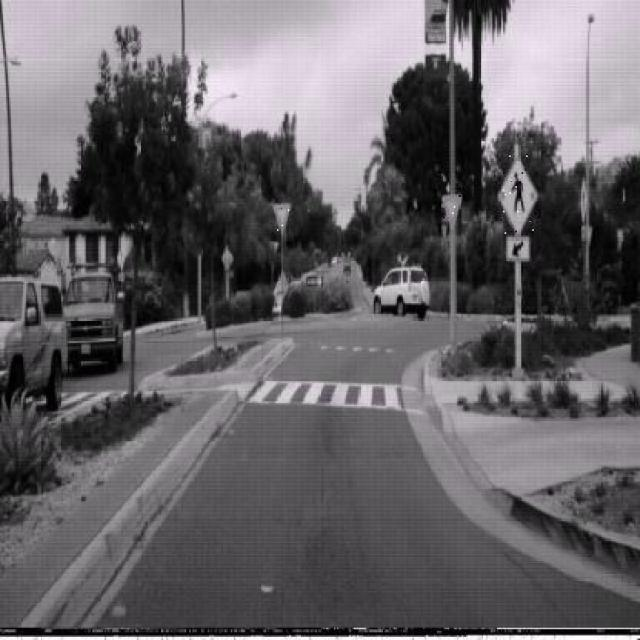pedestrianCrossing: (497, 154, 538, 236)
yield: (442, 192, 462, 230), (272, 202, 291, 232)
